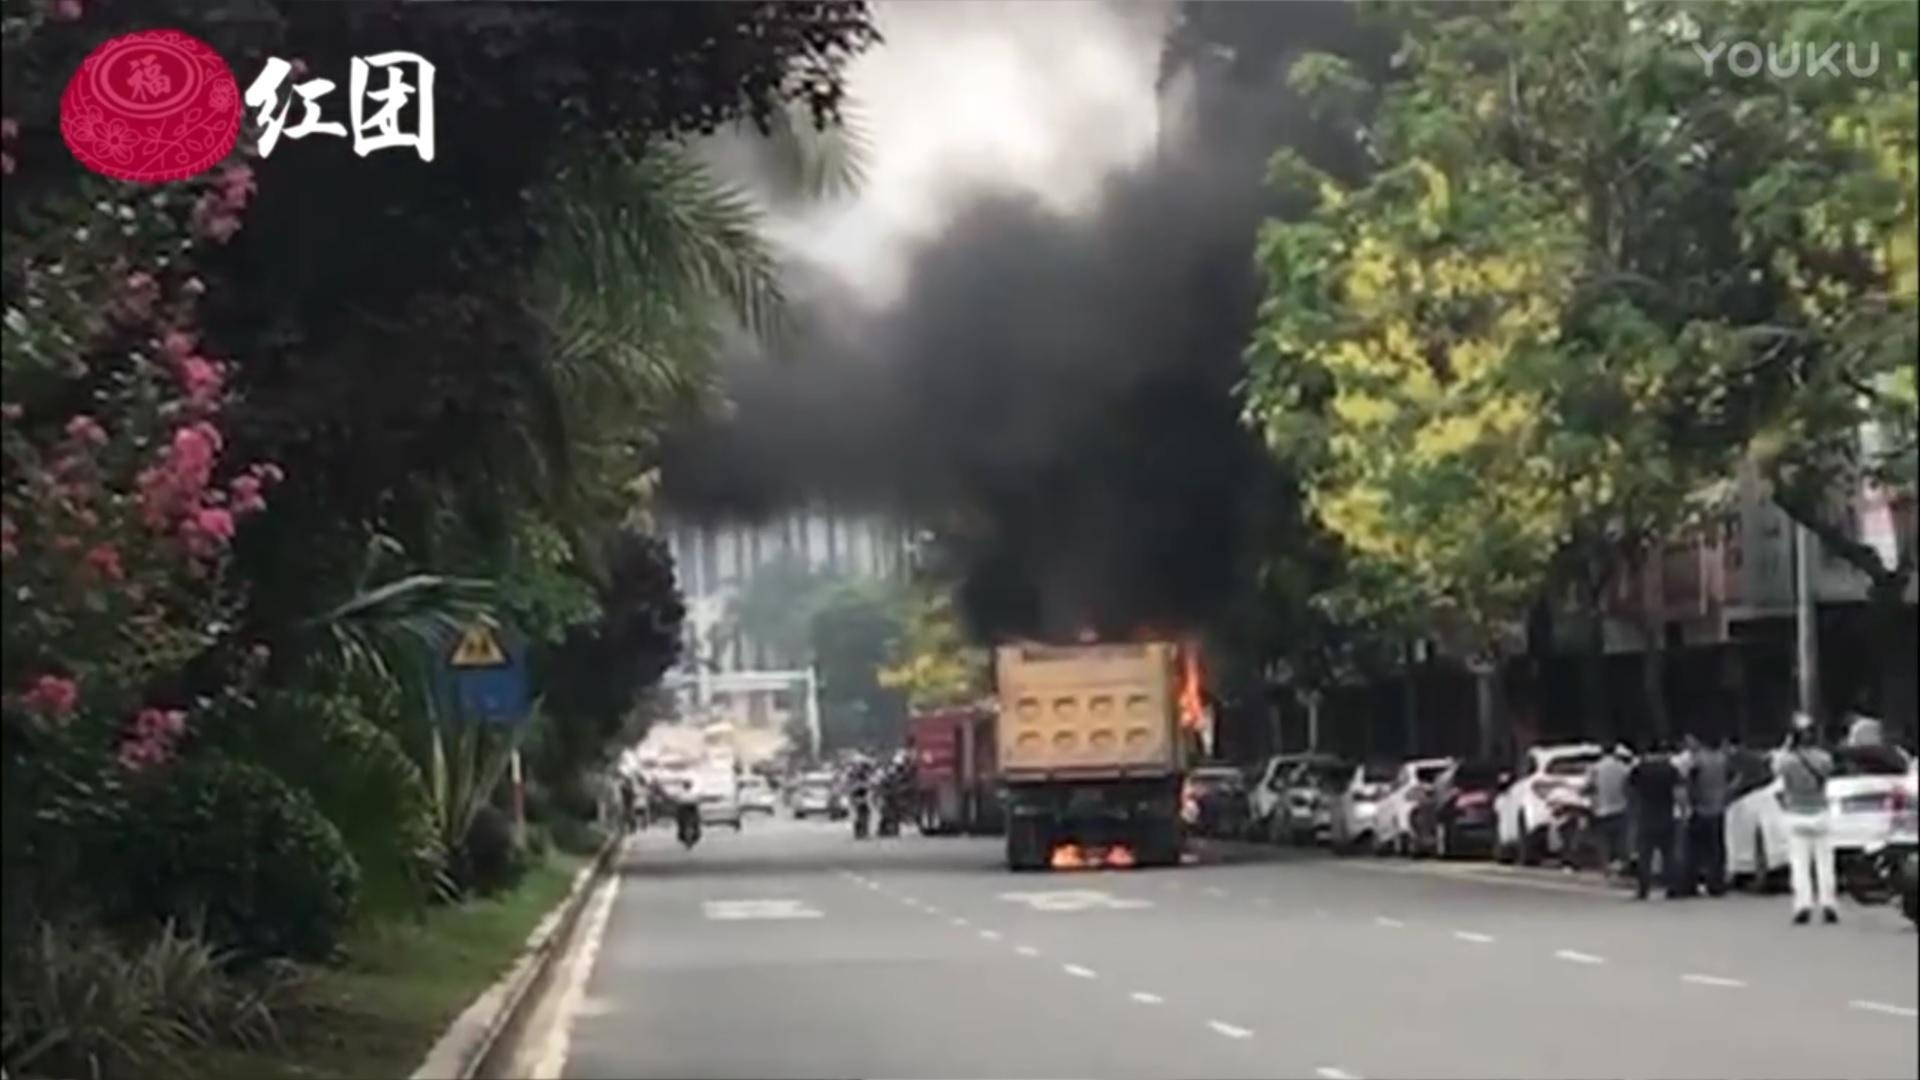fire: (1050, 829, 1134, 877), (1168, 647, 1215, 732)
